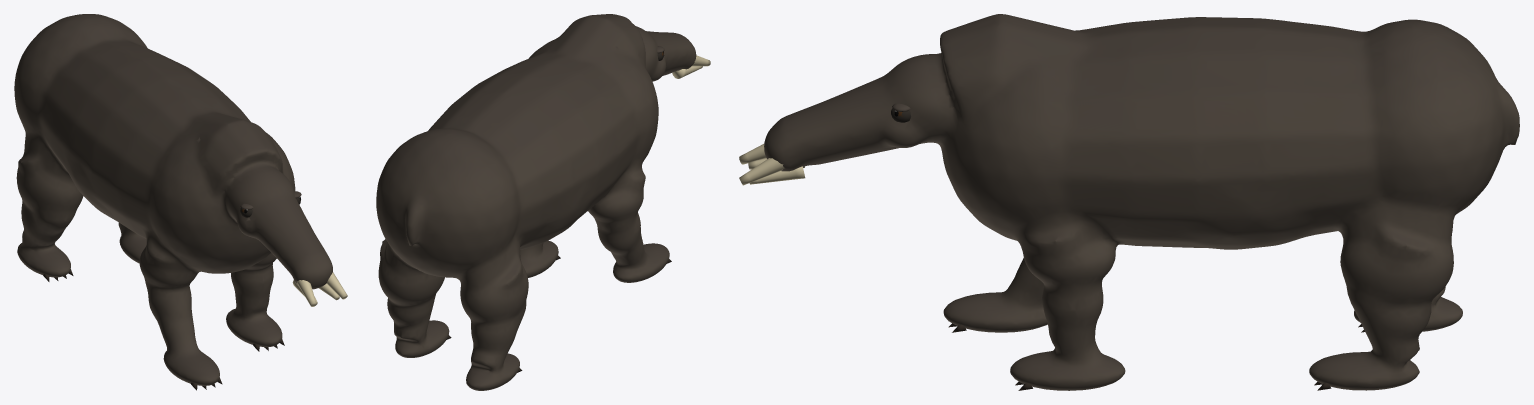
File: DesmostylusHesperus.fbx
3 renders of one model, left to right at view 1: azimuth 30°, elevation 25°; view 2: azimuth 150°, elevation 25°; view 3: azimuth 270°, elevation 25°, orthographic. The views are drawn at different scales.
Visible parts, largest first — view 1: DesmostylusHesperus; view 2: DesmostylusHesperus; view 3: DesmostylusHesperus.
Part boxes in pixels (x1=…): DesmostylusHesperus: x1=14, y1=14, x2=347, y2=390; DesmostylusHesperus: x1=376, y1=14, x2=710, y2=390; DesmostylusHesperus: x1=739, y1=14, x2=1519, y2=390.
Bounding box in the file's own units: 0.6256 × 1.01 × 2.11.
